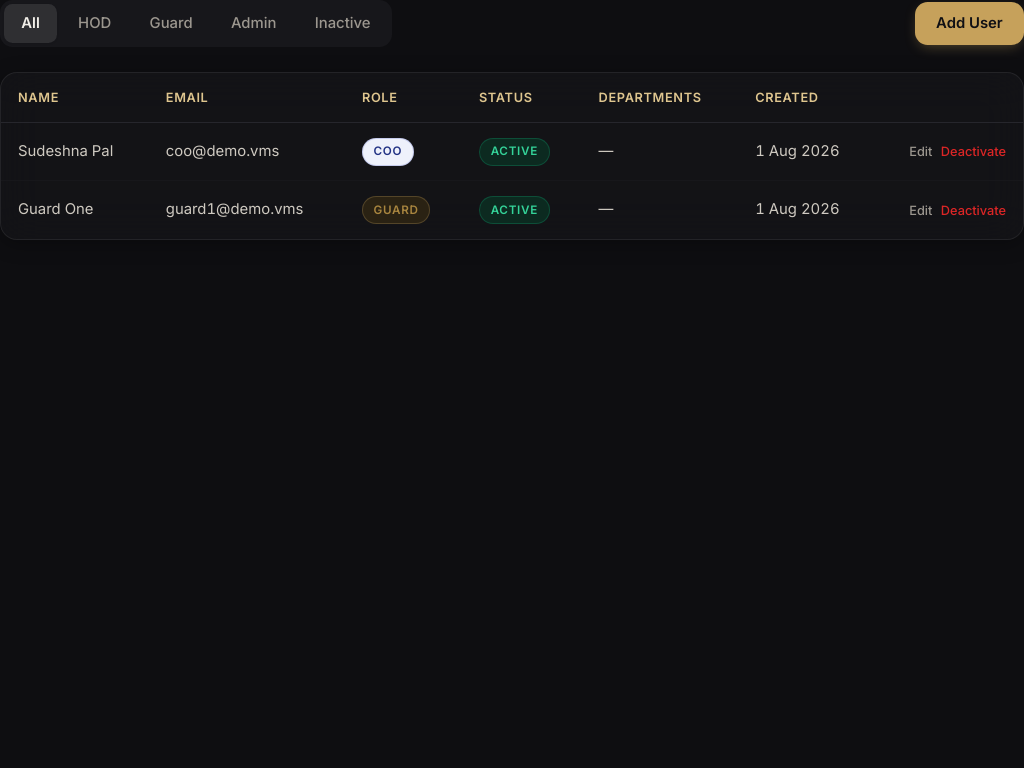
Test: deactivating an office holder (059) › says which office the press is about to vacate
Expected: the text "Sudeshna Pal" is shown, [1, 123, 149, 181]
Step 1. Click the button "Deactivate" in the row of "Sudeshna Pal" → (973, 152), box [941, 143, 1006, 160]
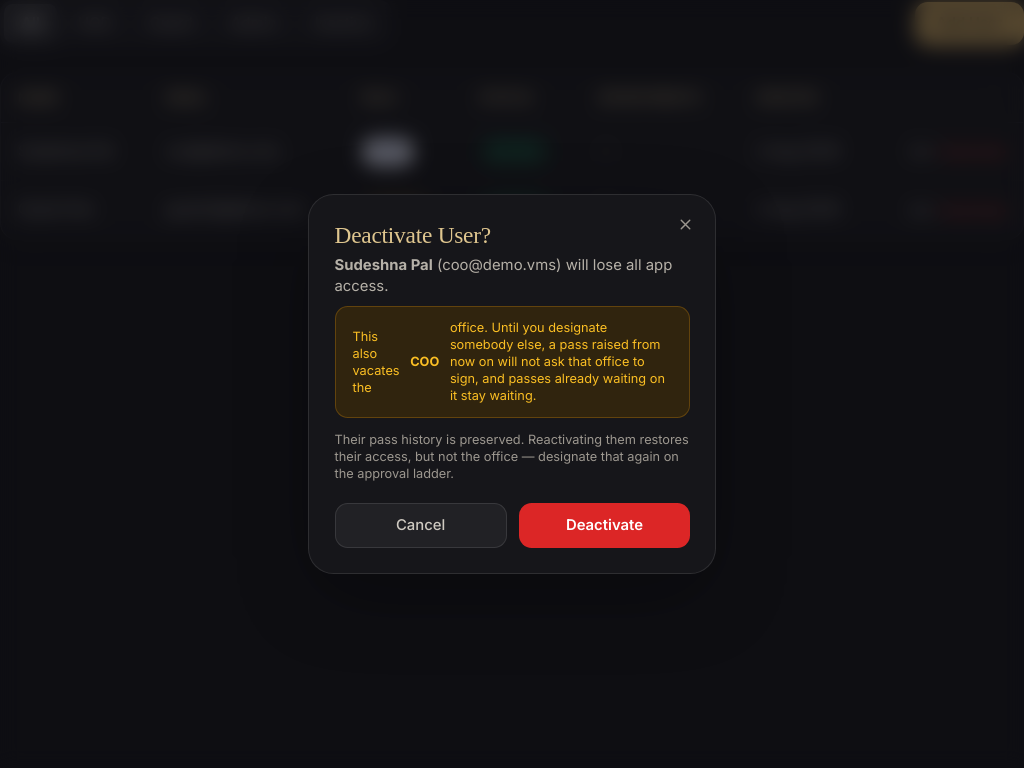
Expected: the heading "Deactivate User?" is shown, [334, 222, 491, 248]
Expected: the element with test id "deactivate-vacates-office" shows "COO", [410, 354, 439, 369]
Expected: the element with test id "deactivate-vacates-office" shows "vacates", [352, 329, 400, 395]
